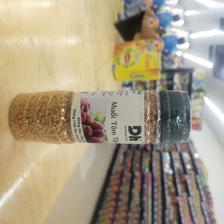TayNinh_green: (9, 87, 192, 143)
